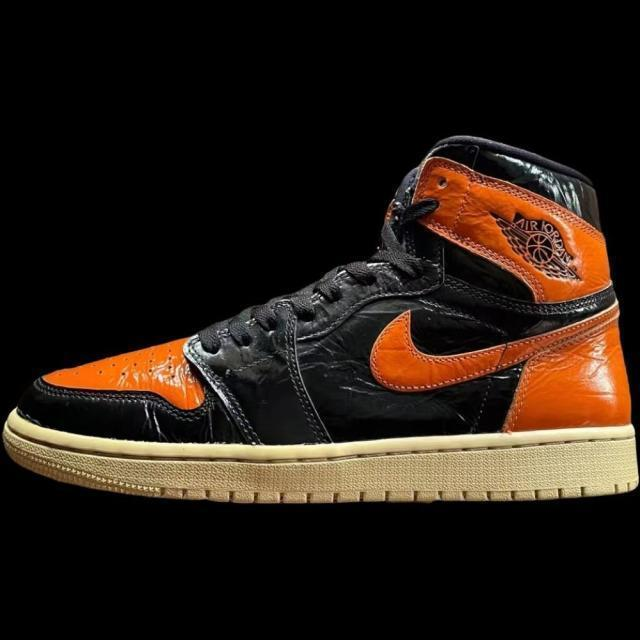nike original jordan 1: (0, 136, 640, 509)
